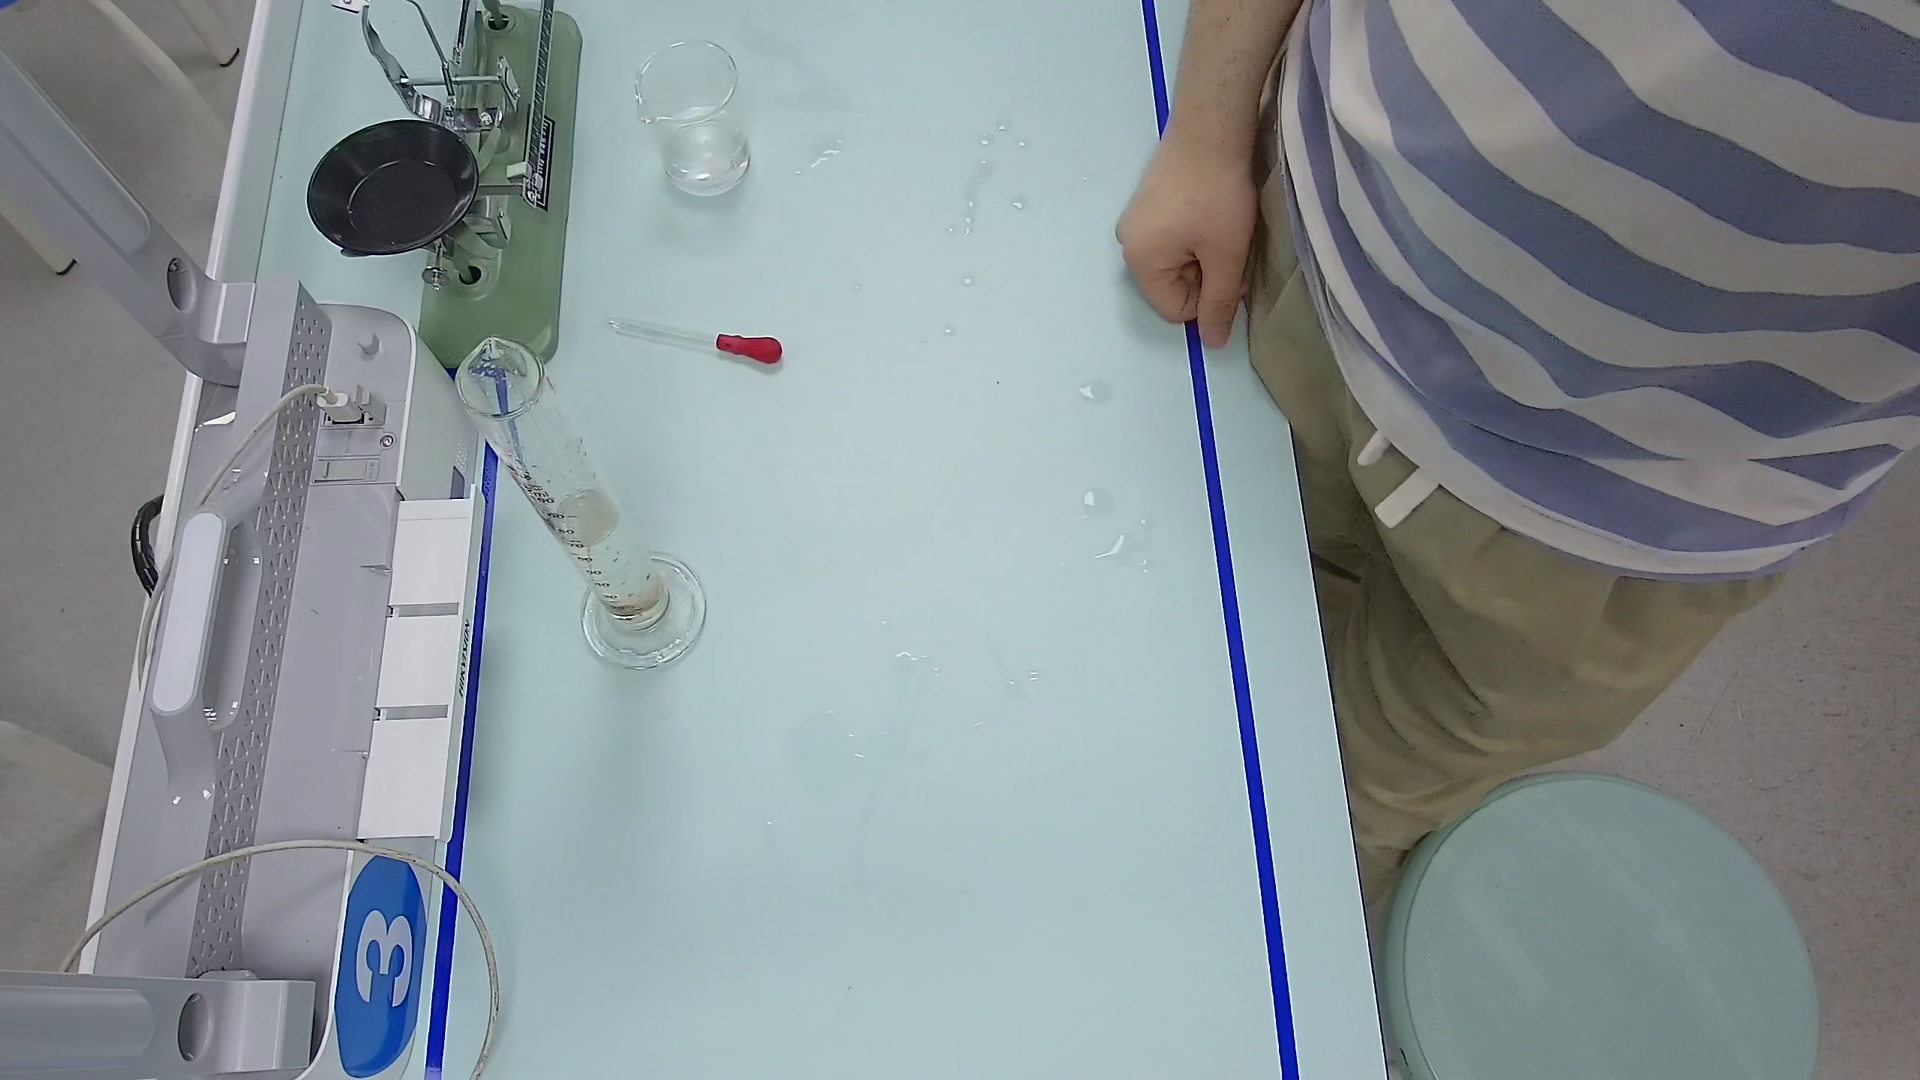ao: (541, 483, 615, 547)
bei: (632, 44, 757, 210)
diguan: (593, 305, 781, 369)
diguantou: (707, 326, 781, 377)
hand: (1109, 149, 1266, 342)
liangdi: (578, 558, 702, 673)
liangtong: (455, 339, 705, 670)
shi: (597, 585, 667, 626)
tuo: (293, 115, 502, 261)
